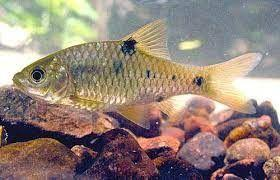Black Spotted Barb: (12, 20, 262, 118)
